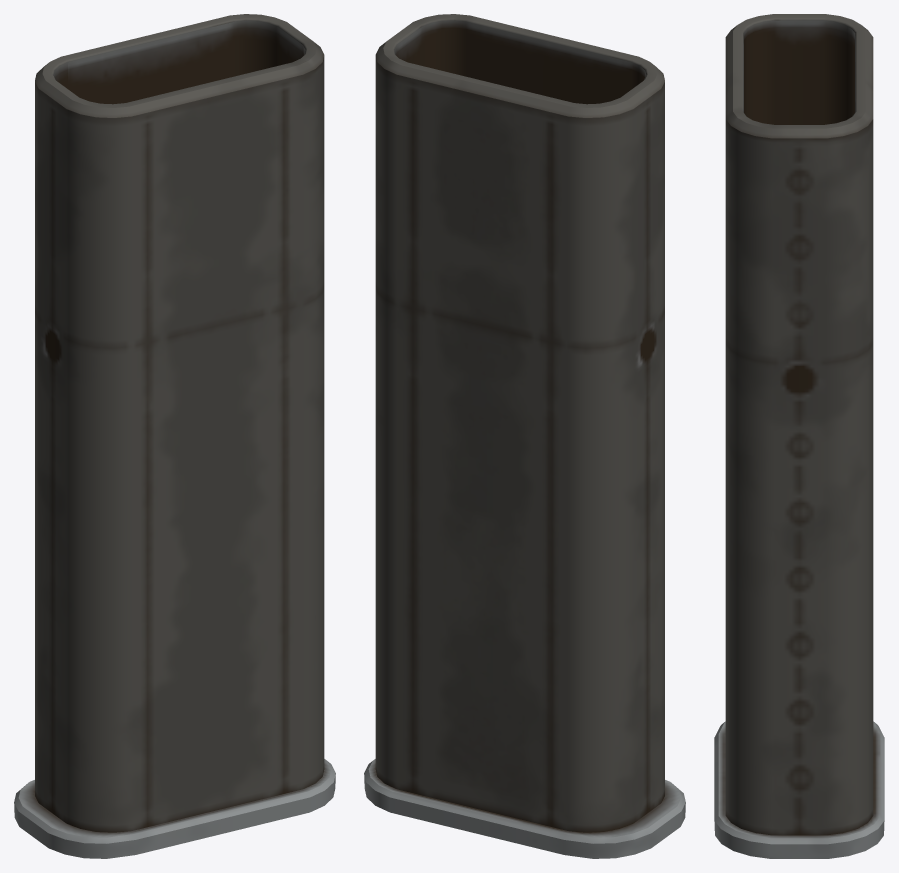
The model's file is R_lower_arm_gun_02_B1_Mag_02.fbx.
The picture shows the model from 3 angles, left to right: view 1: azimuth 30°, elevation 25°; view 2: azimuth 150°, elevation 25°; view 3: azimuth 270°, elevation 25°; orthographic projection. The views are drawn at different scales.
Parts seen in each view (by area): view 1: R_lower_arm_gun_02_B1_Mag_02; view 2: R_lower_arm_gun_02_B1_Mag_02; view 3: R_lower_arm_gun_02_B1_Mag_02.
Part boxes in pixels (box(x1,y1,x2,y2)): R_lower_arm_gun_02_B1_Mag_02: box(14, 14, 335, 858); R_lower_arm_gun_02_B1_Mag_02: box(364, 14, 685, 858); R_lower_arm_gun_02_B1_Mag_02: box(714, 14, 884, 858).
Size of the model in its own units: 13.76 by 34.57 by 7.34.
Materials: 1 (1 with a texture image).
